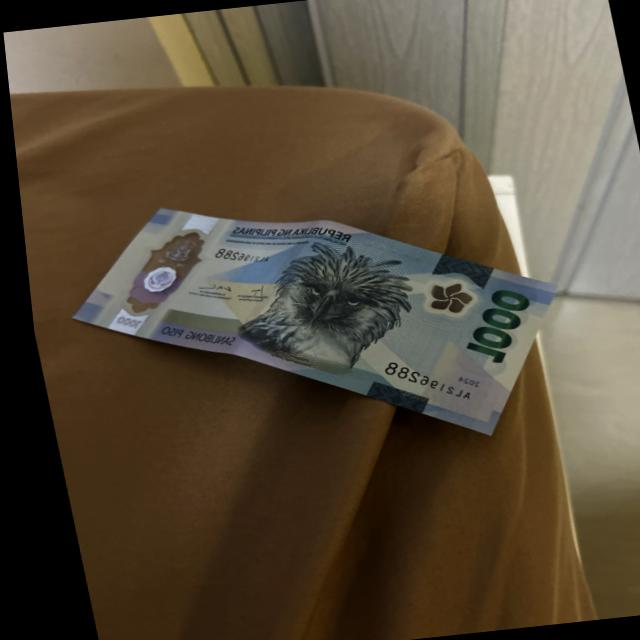clear_window: (97, 222, 211, 313)
eagle: (240, 248, 410, 362)
sampaguita: (413, 278, 473, 316)
